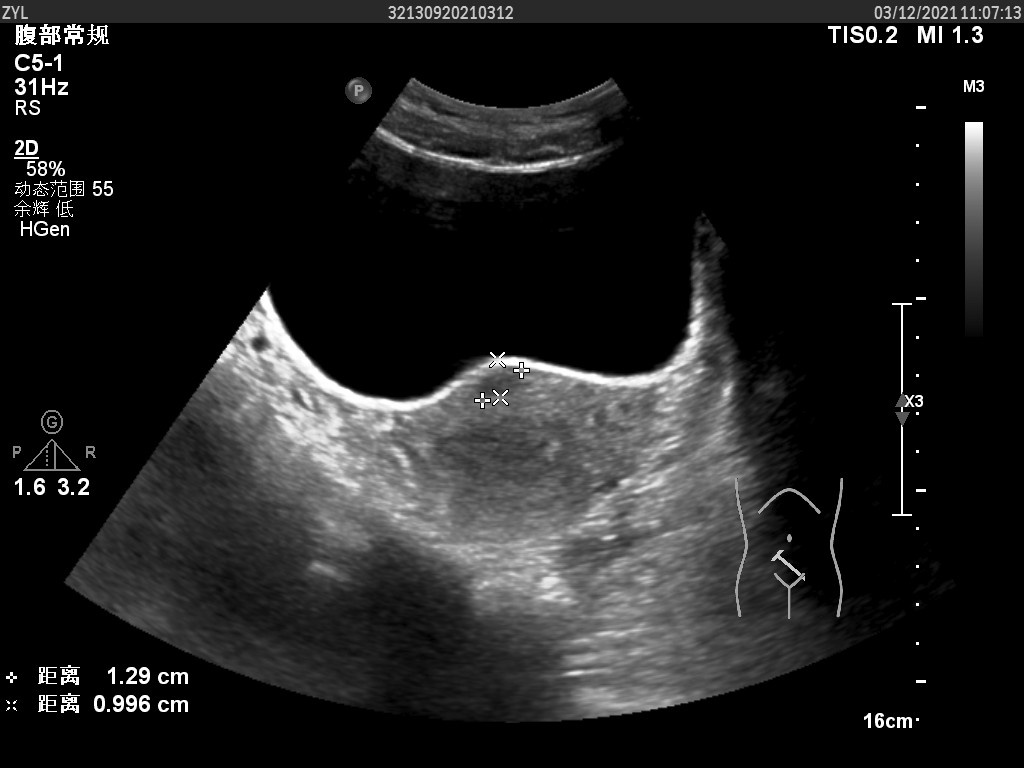肌瘤: (474, 372, 520, 396)
